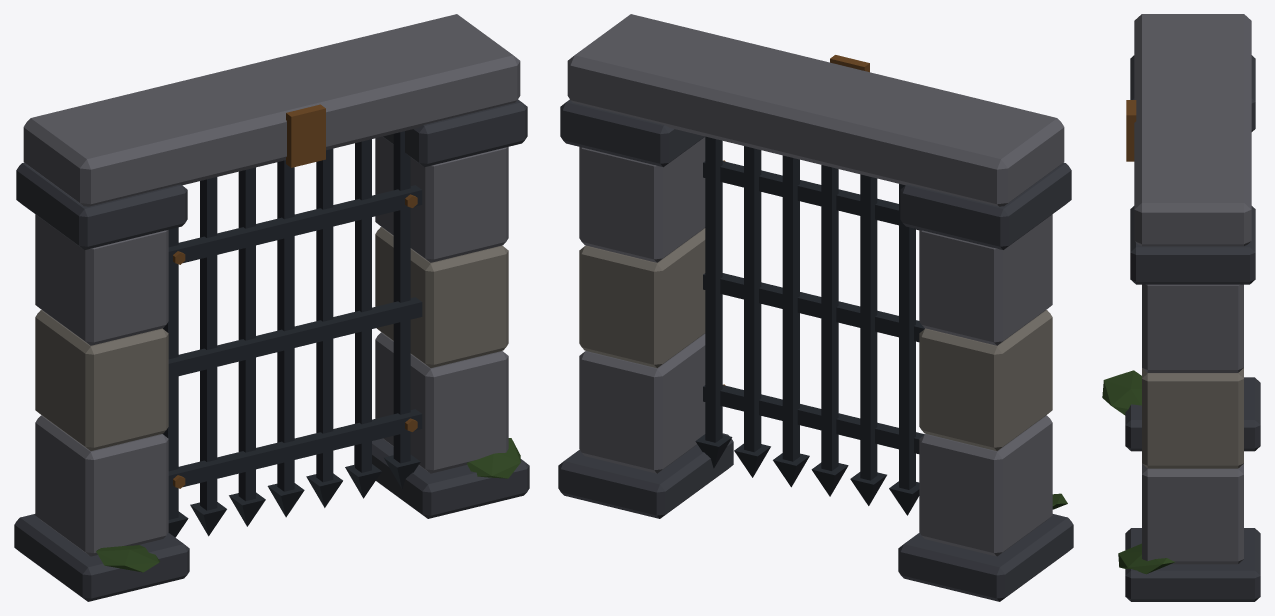
The model's file is Portcullis.glb.
The picture shows the model from 3 angles, left to right: view 1: azimuth 30°, elevation 25°; view 2: azimuth 150°, elevation 25°; view 3: azimuth 270°, elevation 25°; orthographic projection. The views are drawn at different scales.
Parts seen in each view (by area): view 1: Portcullis; view 2: Portcullis; view 3: Portcullis.
Boxes of the visible parts, x1=… form: Portcullis: x1=14, y1=14, x2=529, y2=601; Portcullis: x1=558, y1=14, x2=1073, y2=601; Portcullis: x1=1102, y1=14, x2=1260, y2=601.
Bounding box in the file's own units: 2.85 × 2.66 × 0.9595.
